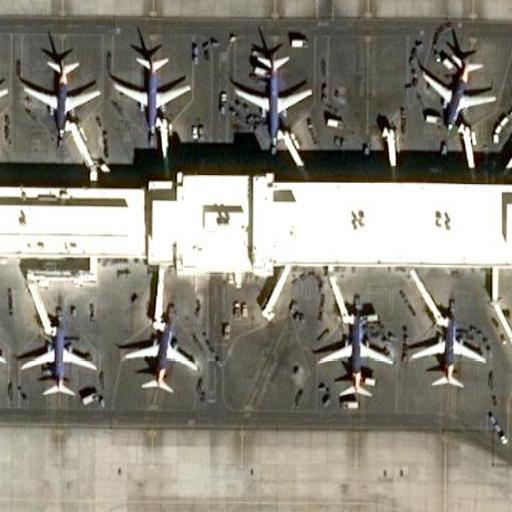Aircraft: (223, 43, 314, 141), (413, 40, 495, 134), (22, 44, 101, 141), (402, 303, 487, 393), (17, 310, 98, 403), (317, 309, 398, 401), (112, 43, 190, 136), (118, 311, 197, 394), (0, 304, 11, 392), (504, 53, 512, 140), (0, 44, 4, 139)
